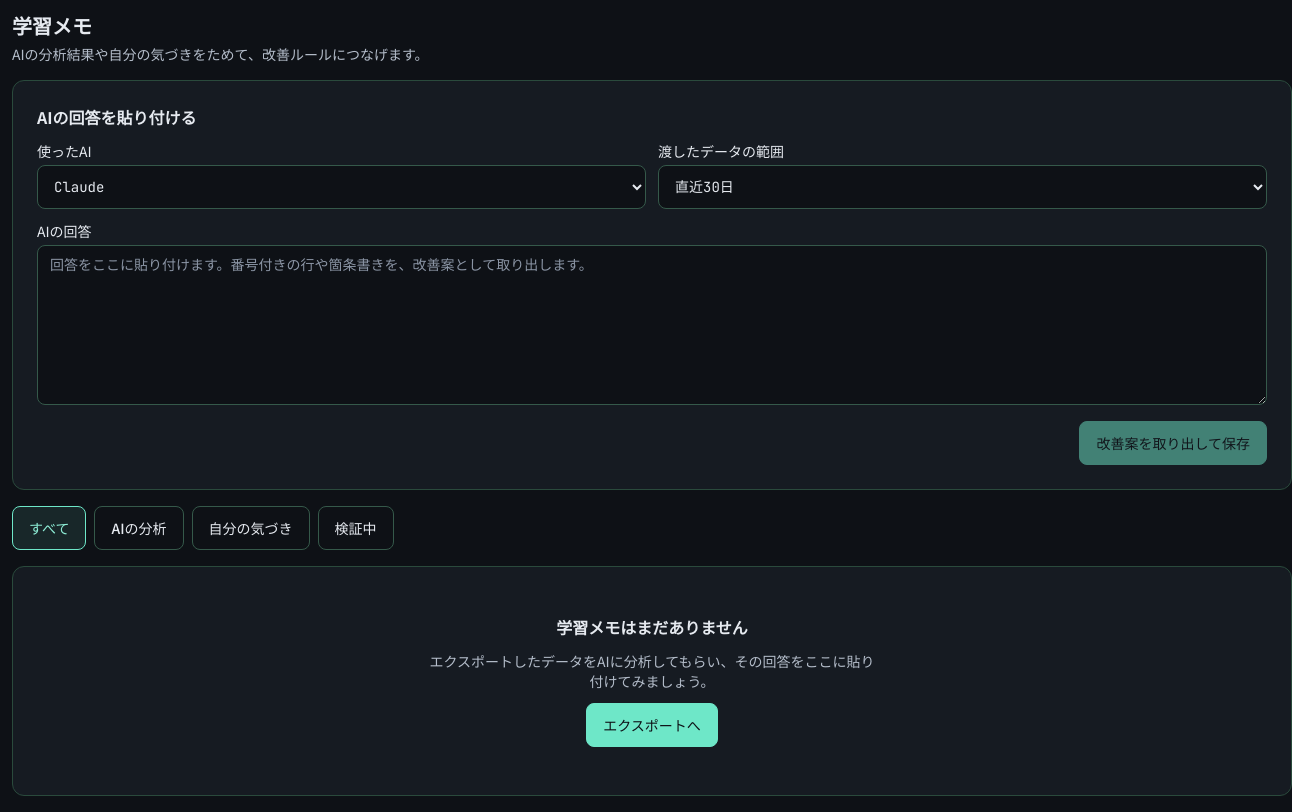
Test: 学習メモ › 貼り付けた回答を保存して、詳細へ移動する。回答が空なら押せない
This screenshot has width=1292, height=812.
Check: the button "改善案を取り出して保存" is disabled, box left=1079, top=421, right=1267, bottom=465
Step 1. Select "ChatGPT" in the dropdown labelled "使ったAI" → (342, 187), box left=37, top=165, right=646, bottom=209
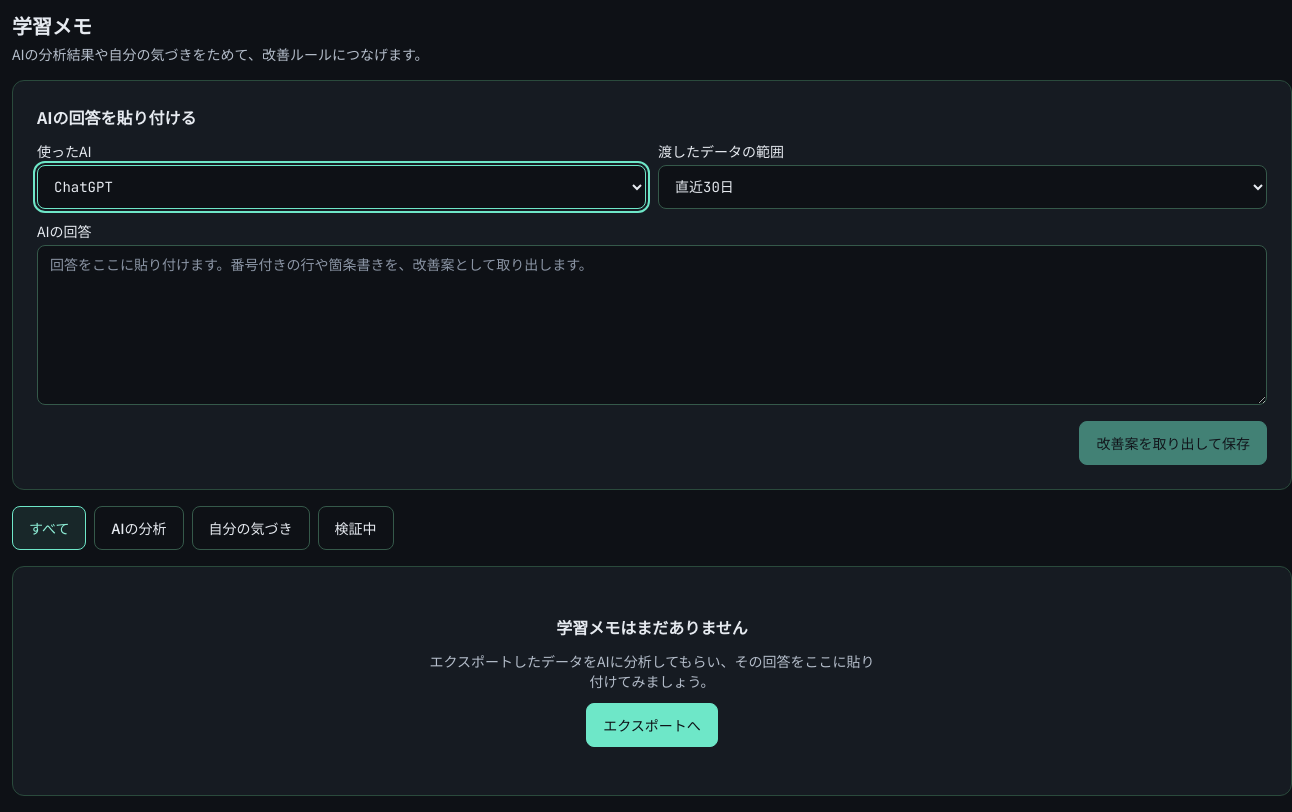
Step 2. Type "1. SLを必ず入れる" into the text box labelled "AIの回答" → (652, 325), box left=37, top=245, right=1267, bottom=405
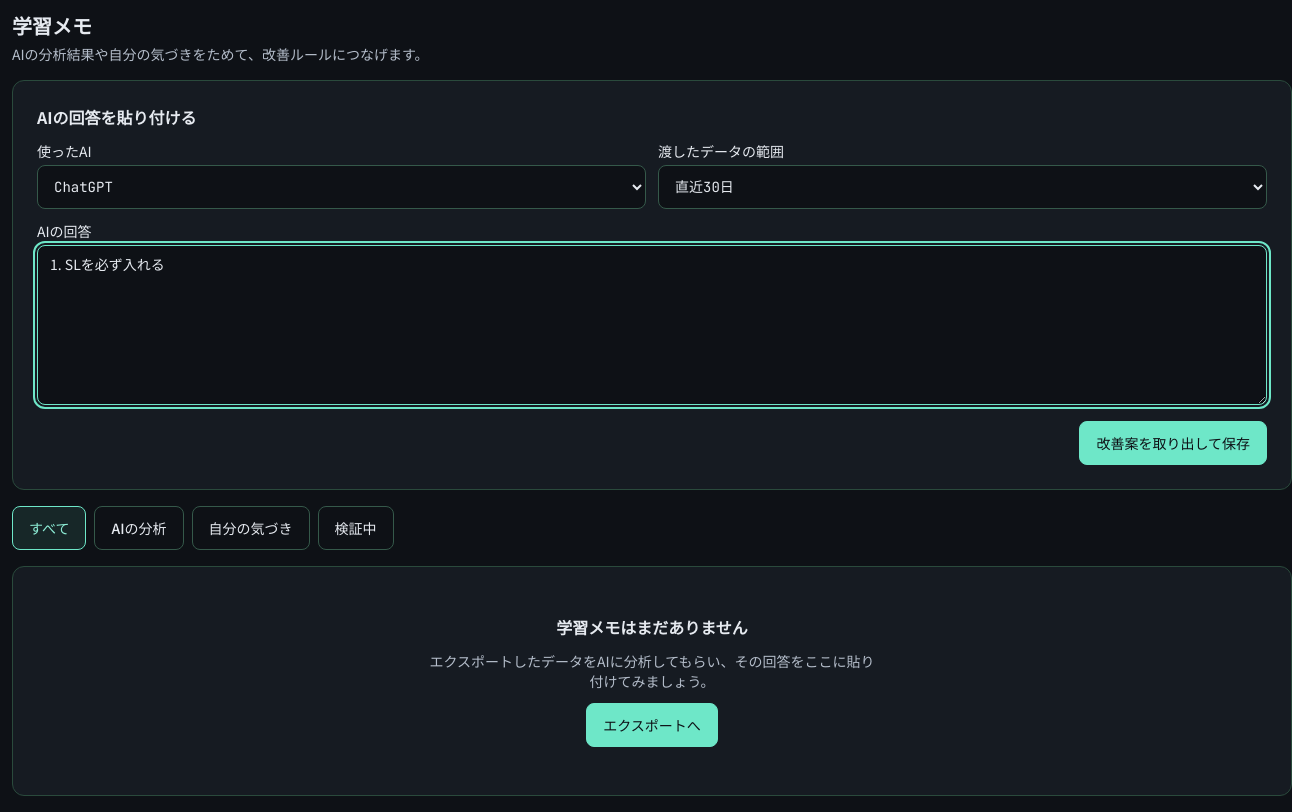
Step 3. Click the button "改善案を取り出して保存" → (1173, 443), box left=1079, top=421, right=1267, bottom=465
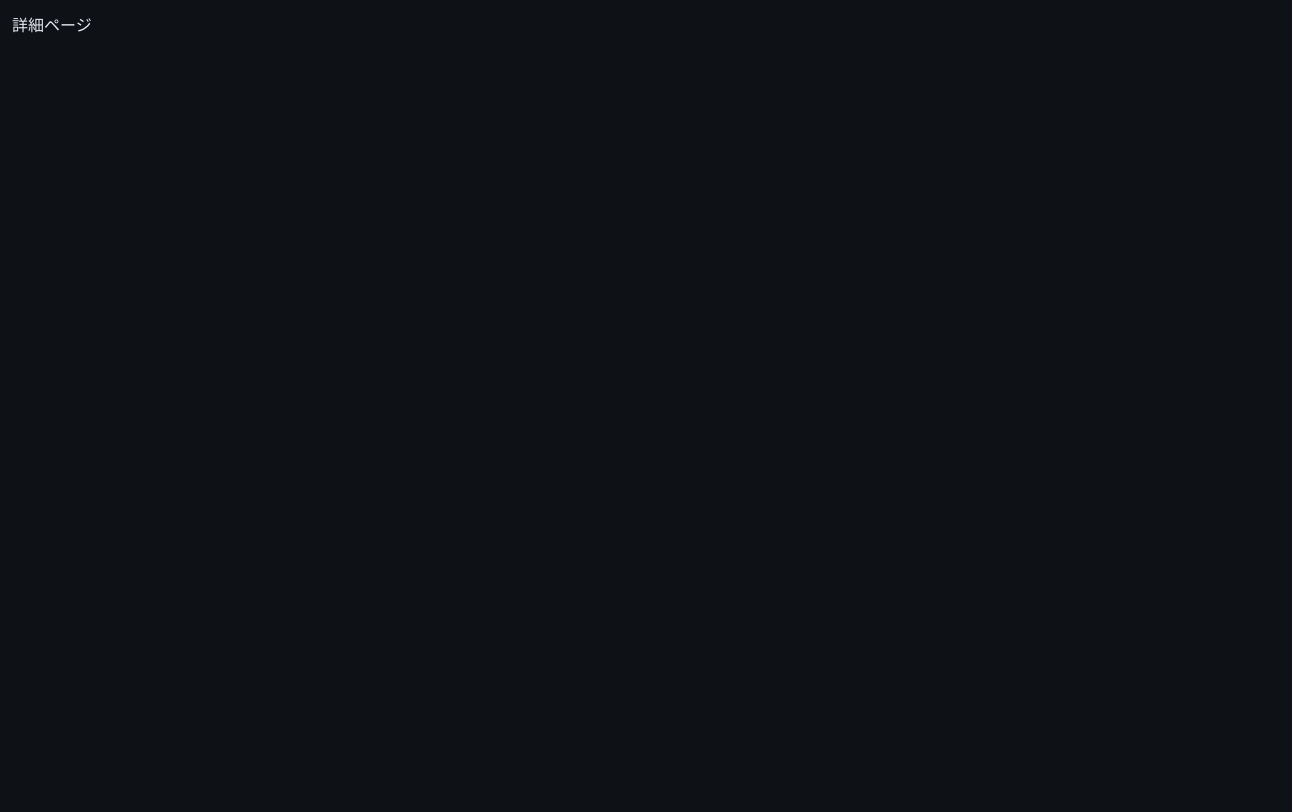
Check: the text "詳細ページ" is shown, box left=12, top=12, right=92, bottom=36
